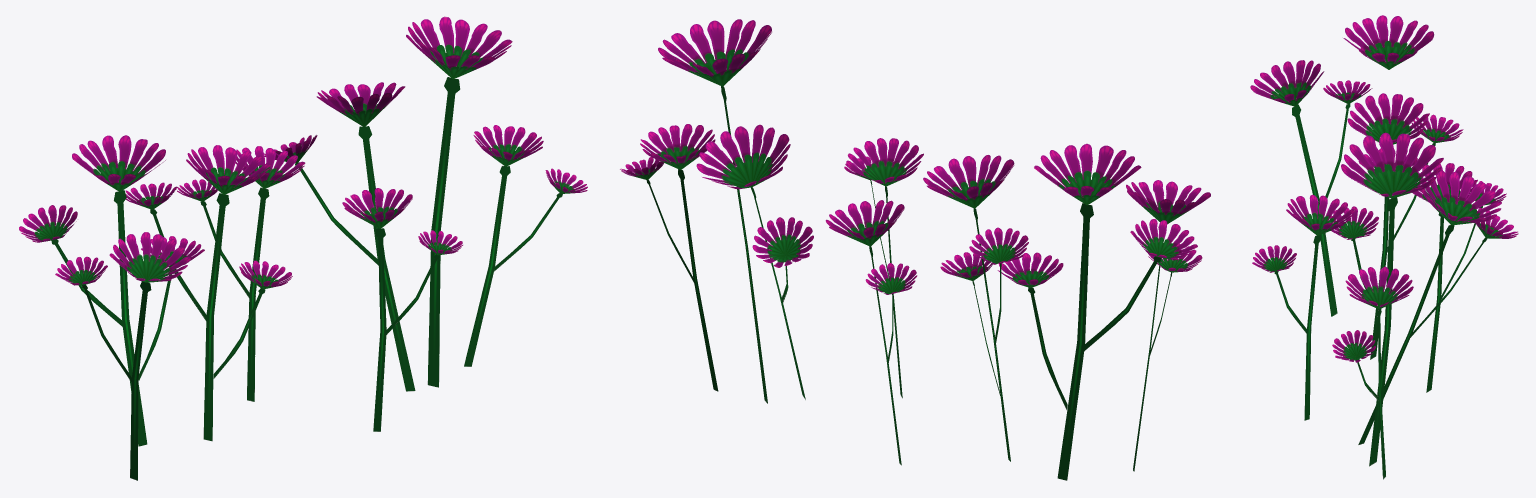
The model's file is Flower_01c.FBX.
The picture shows the model from 3 angles, left to right: view 1: azimuth 30°, elevation 25°; view 2: azimuth 150°, elevation 25°; view 3: azimuth 270°, elevation 25°; orthographic projection. The views are drawn at different scales.
Parts seen in each view (by area): view 1: Flower_01c; view 2: Flower_01c; view 3: Flower_01c.
Boxes of the visible parts, x1=… form: Flower_01c: x1=19, y1=16, x2=587, y2=480; Flower_01c: x1=620, y1=19, x2=1210, y2=480; Flower_01c: x1=1250, y1=15, x2=1518, y2=479.
Bounding box in the file's own units: 42.96 × 26.06 × 19.6.
1 material, 1 textured.
